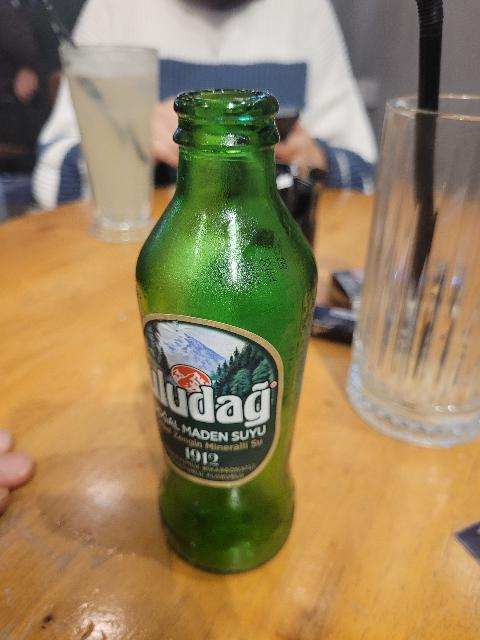Cam: (140, 87, 321, 573), (349, 95, 480, 447)
Plastik: (416, 0, 441, 112)
